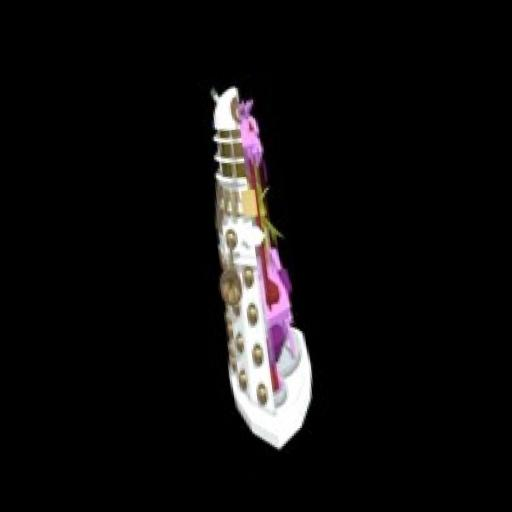dalek: (184, 74, 322, 455)
